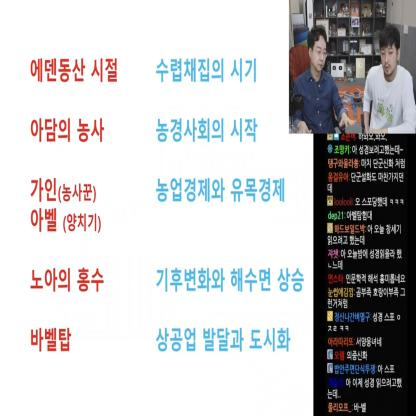streamer: (293, 25, 357, 134), (363, 23, 416, 132)
